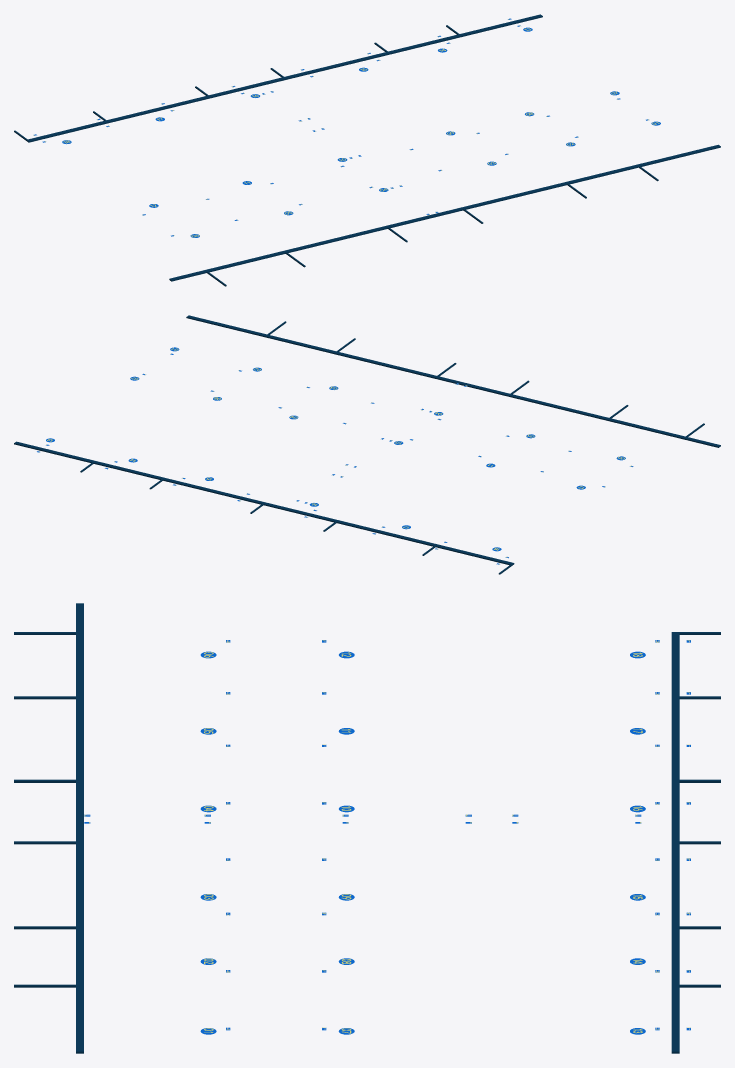
File: z_dibiao_01.fbx
3 renders of one model, top to bottom at view 1: azimuth 30°, elevation 25°; view 2: azimuth 150°, elevation 25°; view 3: azimuth 270°, elevation 25°, orthographic. The views are drawn at different scales.
Visible parts, largest first — view 1: dibiao; view 2: dibiao; view 3: dibiao.
Boxes of the visible parts, x1,y1,x2,y2 form: dibiao: [14, 14, 720, 286]; dibiao: [14, 315, 720, 574]; dibiao: [14, 603, 720, 1053].
Bounding box in the file's own units: 5628 × 12.6 × 3750.
